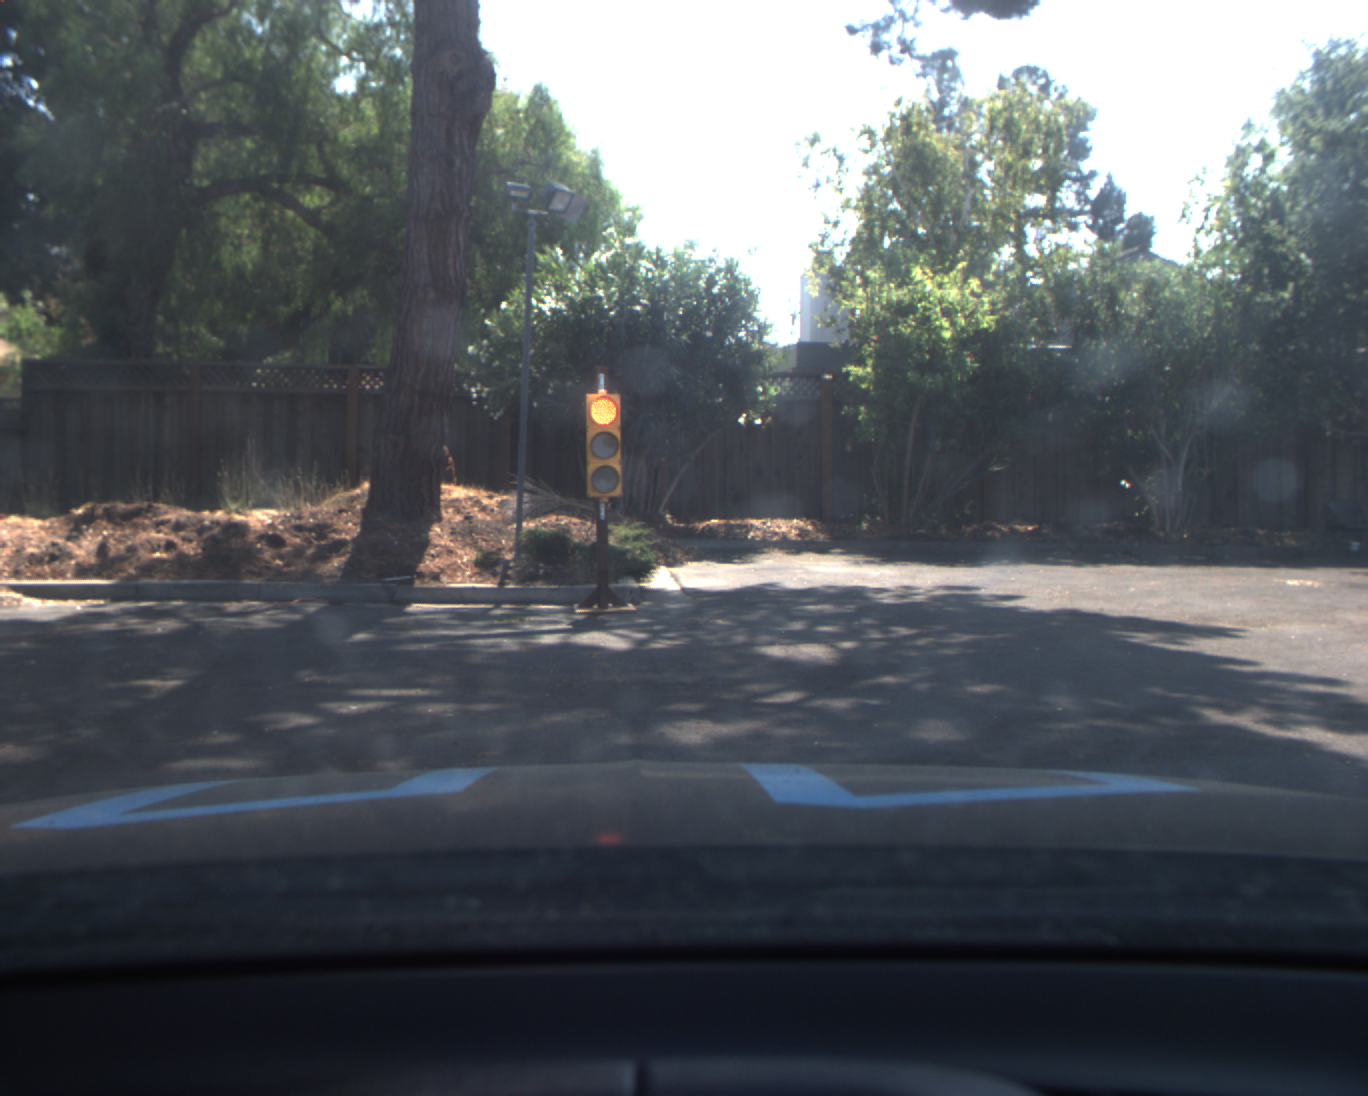red: (582, 388, 626, 501)
